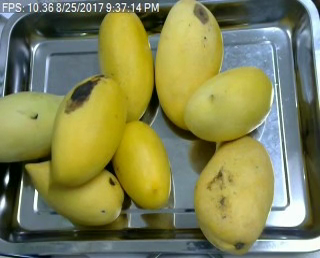Mango: (188, 133, 271, 254), (153, 0, 224, 131), (47, 75, 129, 184), (95, 3, 157, 128), (185, 63, 277, 142), (22, 158, 125, 227), (110, 116, 177, 209), (0, 89, 74, 165)
